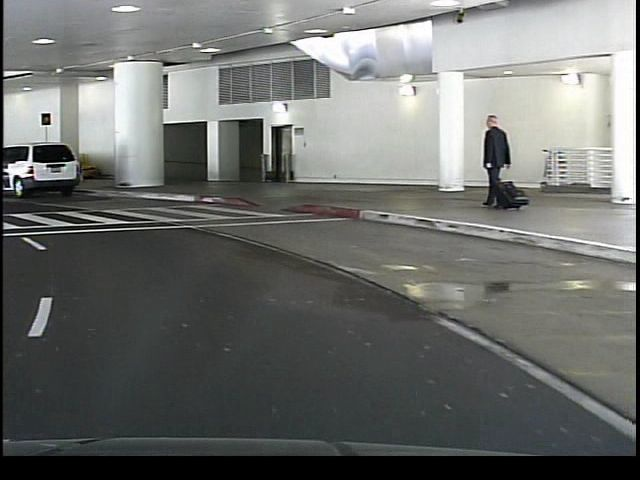person: (471, 109, 506, 212)
